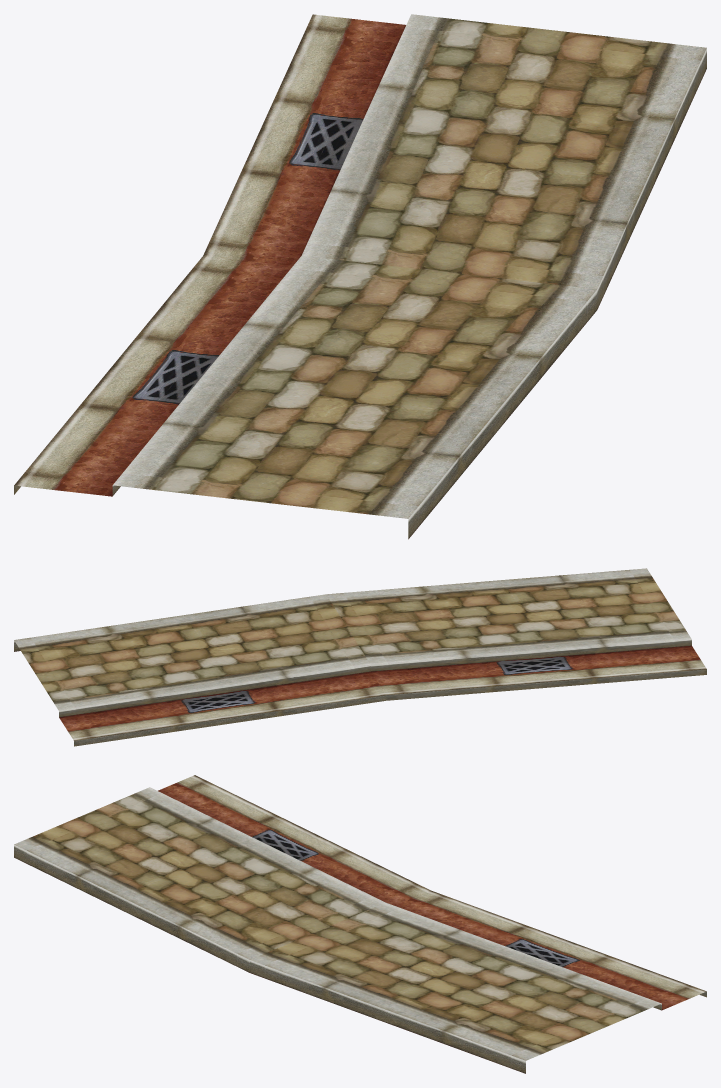
The model's file is obj_masabkdiagonal02.glb.
3 views of the same model, one above another, from view 1: azimuth 30°, elevation 25°; view 2: azimuth 150°, elevation 25°; view 3: azimuth 270°, elevation 25° (orthographic). The views are drawn at different scales.
Parts seen in each view (by area): view 1: part_0; view 2: part_0; view 3: part_0.
Part boxes in pixels (x1=…): part_0: x1=14, y1=14, x2=706, y2=539; part_0: x1=14, y1=568, x2=706, y2=746; part_0: x1=14, y1=775, x2=706, y2=1073.
Bounding box in the file's own units: 10.83 × 0.2275 × 10.83.
1 material, 1 textured.
